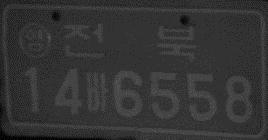1: (19, 65, 49, 114)
4: (53, 67, 81, 115)
5: (185, 71, 218, 121), (149, 70, 180, 119)
6: (111, 69, 144, 118)
8: (223, 74, 252, 124)
바: (84, 70, 109, 114)
영: (16, 21, 52, 60)
전북_D: (62, 23, 196, 61)
